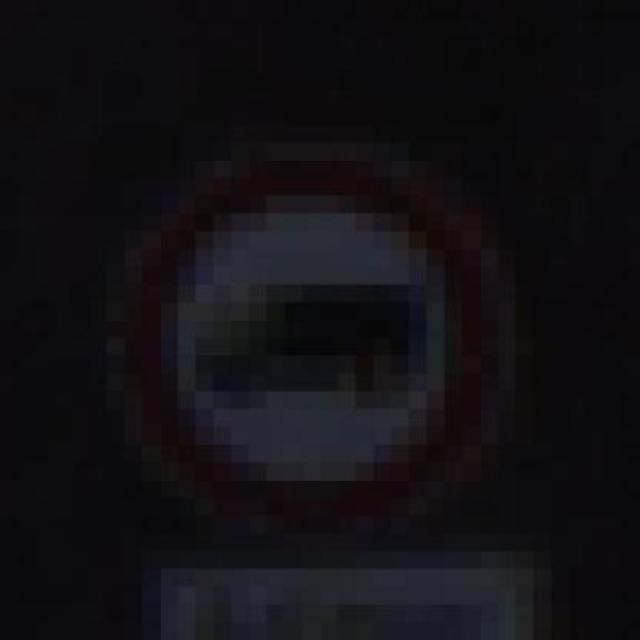Truck traffic is prohibited: (89, 89, 516, 533)
